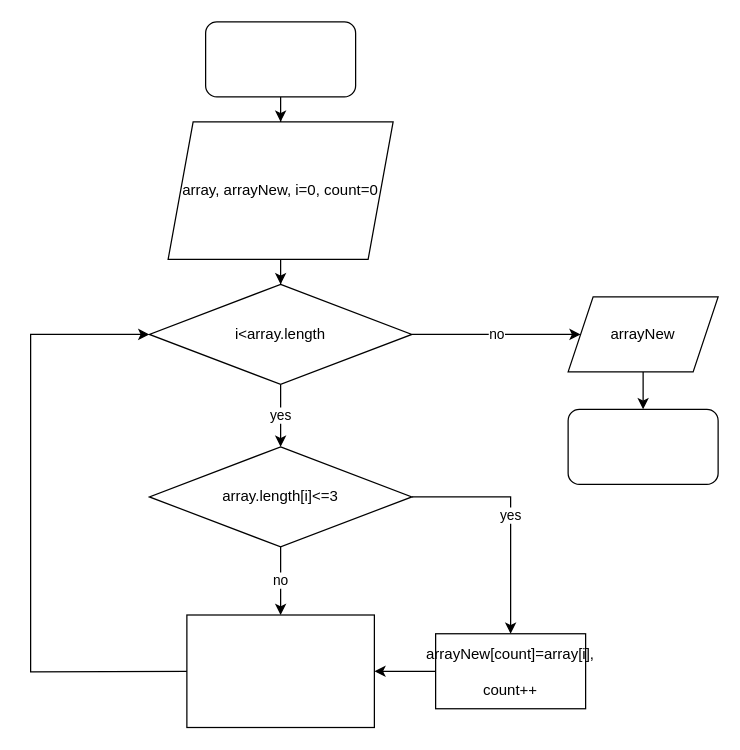
Image size: 740x750. Some labels were removed from this diagram. The centre of each missing label's shape, as x and y in pixels:
"end" goes at (642,446).
"i++" goes at (280,671).
"start" goes at (280,59).
